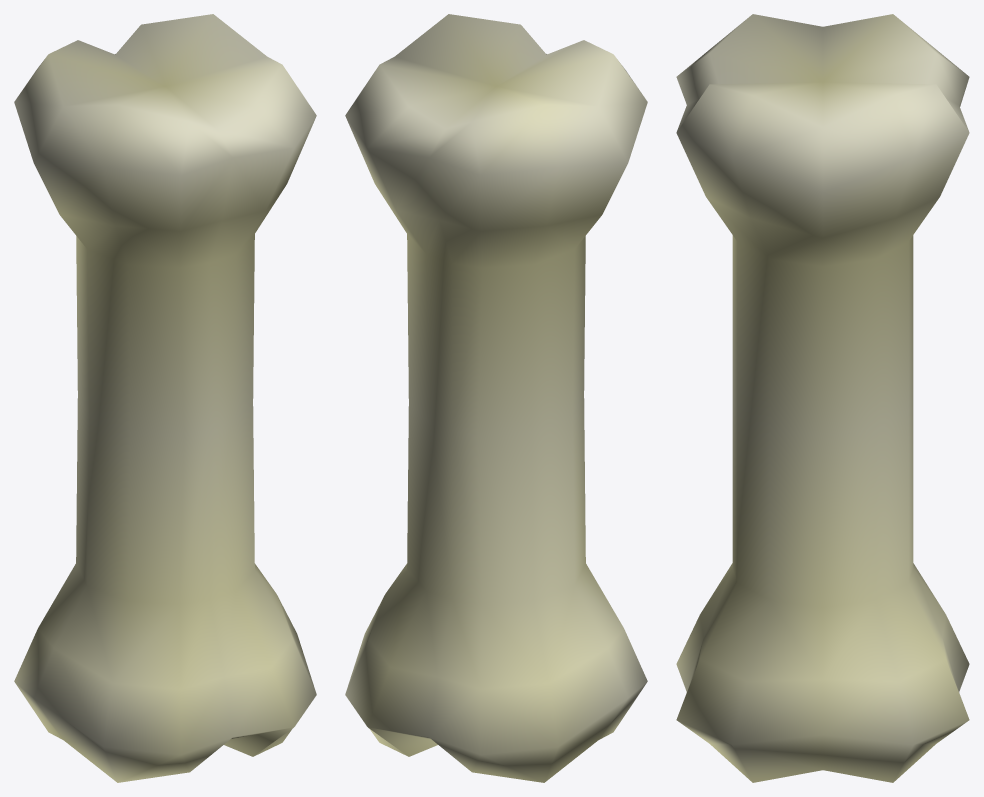
The model's file is hone.fbx.
The picture shows the model from 3 angles, left to right: view 1: azimuth 30°, elevation 25°; view 2: azimuth 150°, elevation 25°; view 3: azimuth 270°, elevation 25°; orthographic projection.
Visible parts, largest first — view 1: polySurface5; view 2: polySurface5; view 3: polySurface5.
Boxes of the visible parts, x1,y1,x2,y2 form: polySurface5: [14, 14, 316, 782]; polySurface5: [345, 14, 647, 782]; polySurface5: [676, 14, 969, 782].
Bounding box in the file's own units: 2.59 × 6.36 × 2.46.
